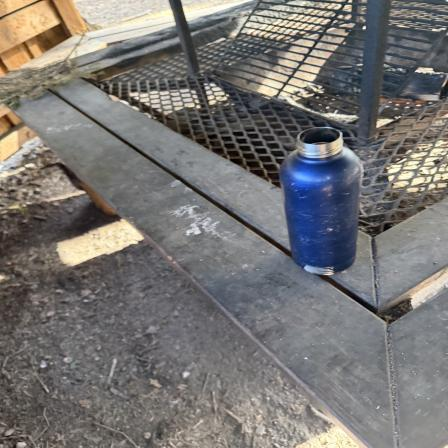blue_bottle: (283, 127, 364, 278)
